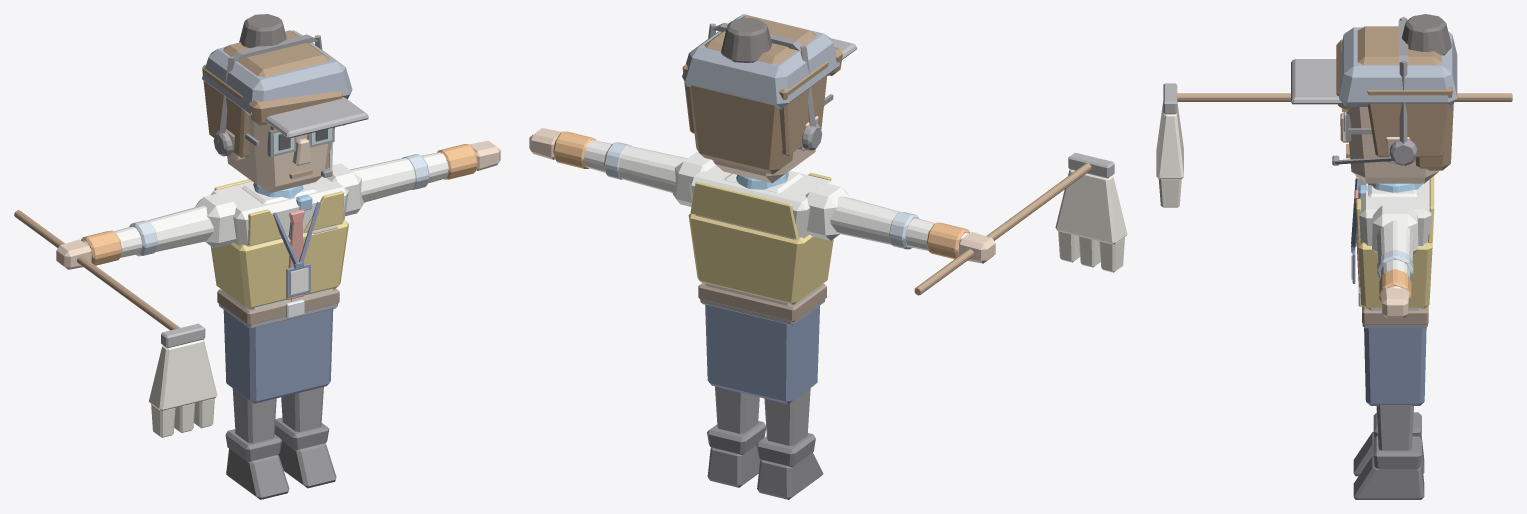
File: office-characters-pack.glb
The picture shows the model from 3 angles, left to right: view 1: azimuth 30°, elevation 25°; view 2: azimuth 150°, elevation 25°; view 3: azimuth 270°, elevation 25°; orthographic projection. The views are drawn at different scales.
Visible parts, largest first — view 1: OfficeWorker, Janitor, Receptionist, Manager; view 2: OfficeWorker, Janitor, Manager, Receptionist; view 3: OfficeWorker, Janitor, Receptionist, Manager.
Part boxes in pixels (<box>): OfficeWorker: <box>56,30,500,499</box>; Janitor: <box>14,30,477,437</box>; Receptionist: <box>213,14,338,403</box>; Manager: <box>129,124,429,309</box>; OfficeWorker: <box>529,15,995,499</box>; Janitor: <box>553,14,1127,325</box>; Manager: <box>604,94,918,304</box>; Receptionist: <box>702,17,824,403</box>; OfficeWorker: <box>1336,26,1453,499</box>; Janitor: <box>1156,27,1512,328</box>; Receptionist: <box>1332,14,1451,405</box>; Manager: <box>1344,112,1434,308</box>.
Size of the model in its own units: 2.3 by 2.16 by 1.52.
